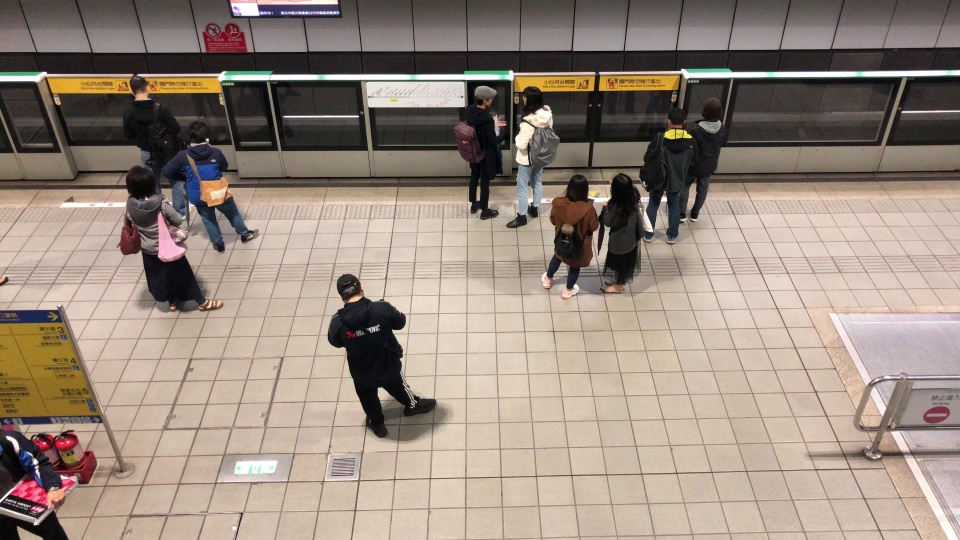person_head: (0, 430, 85, 538), (121, 165, 168, 198), (560, 174, 600, 203), (515, 84, 552, 112), (333, 273, 367, 302), (609, 174, 643, 198), (695, 95, 728, 119), (181, 122, 215, 145), (121, 79, 156, 101), (659, 109, 690, 131), (470, 84, 497, 105)
person_vbox: (320, 273, 443, 439), (115, 165, 228, 314), (175, 121, 270, 255), (535, 174, 601, 305), (510, 84, 561, 232), (643, 108, 692, 249), (461, 83, 508, 224), (683, 96, 725, 227), (605, 174, 650, 296), (118, 78, 175, 163)
